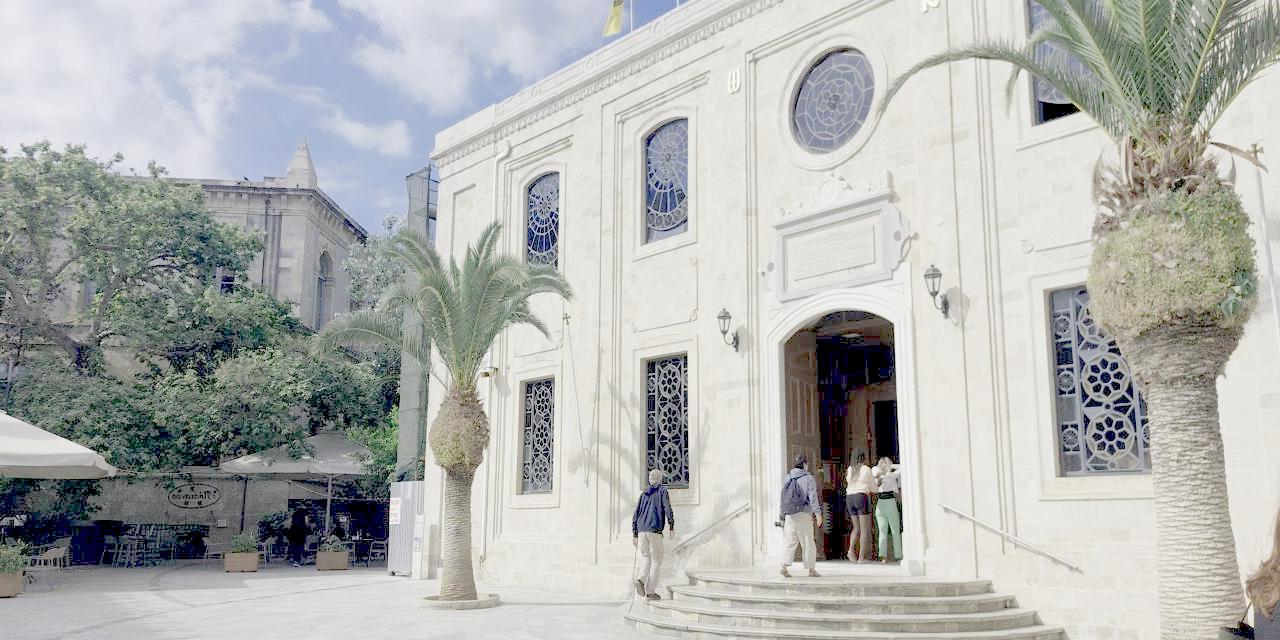Agios Titos: (426, 1, 1279, 596)
